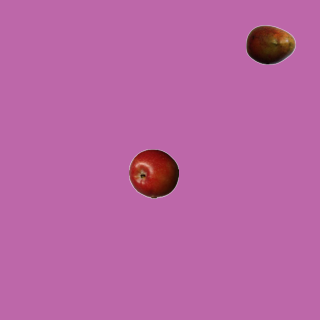Apple Braeburn: (128, 148, 178, 198)
Mango Red: (245, 19, 295, 69)
